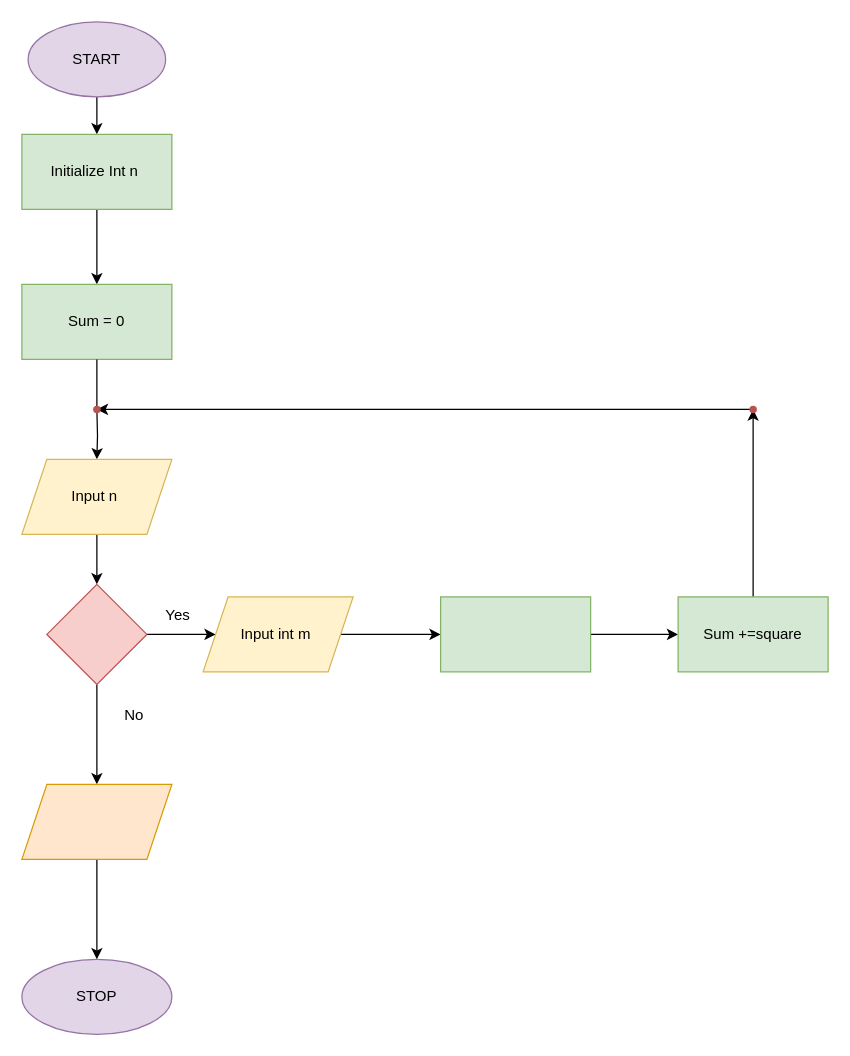
This 850x1056 diagram has some shape labels left out. Here are the shapes that lost their labels. From the top down, the centre of each, then its label:
At pixel 96 633: "Is n > 0".
At pixel 515 634: "Int square = m*m".
At pixel 96 821: "Print sum".
